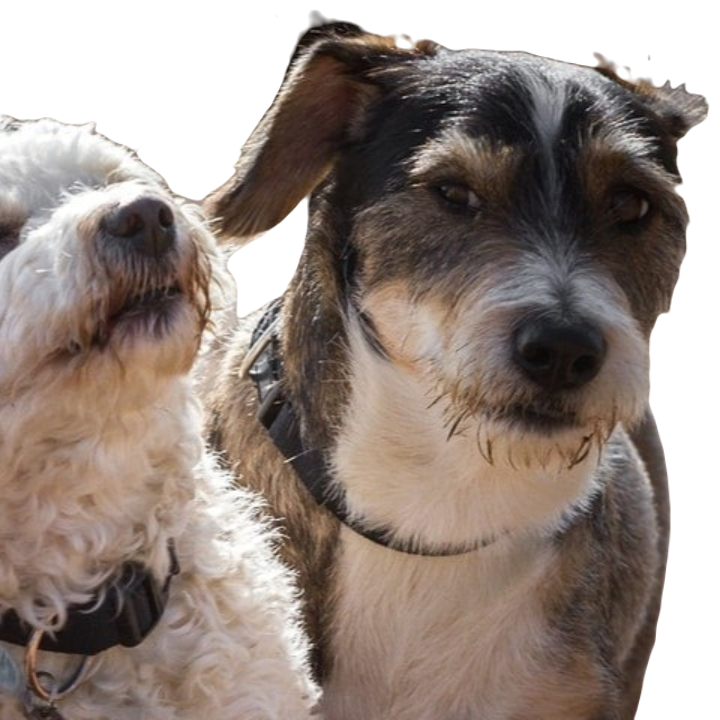Dog: (237, 1, 714, 719)
